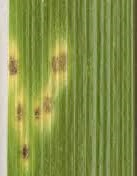Bercak Coklat: (20, 137, 32, 165), (9, 55, 20, 81)
